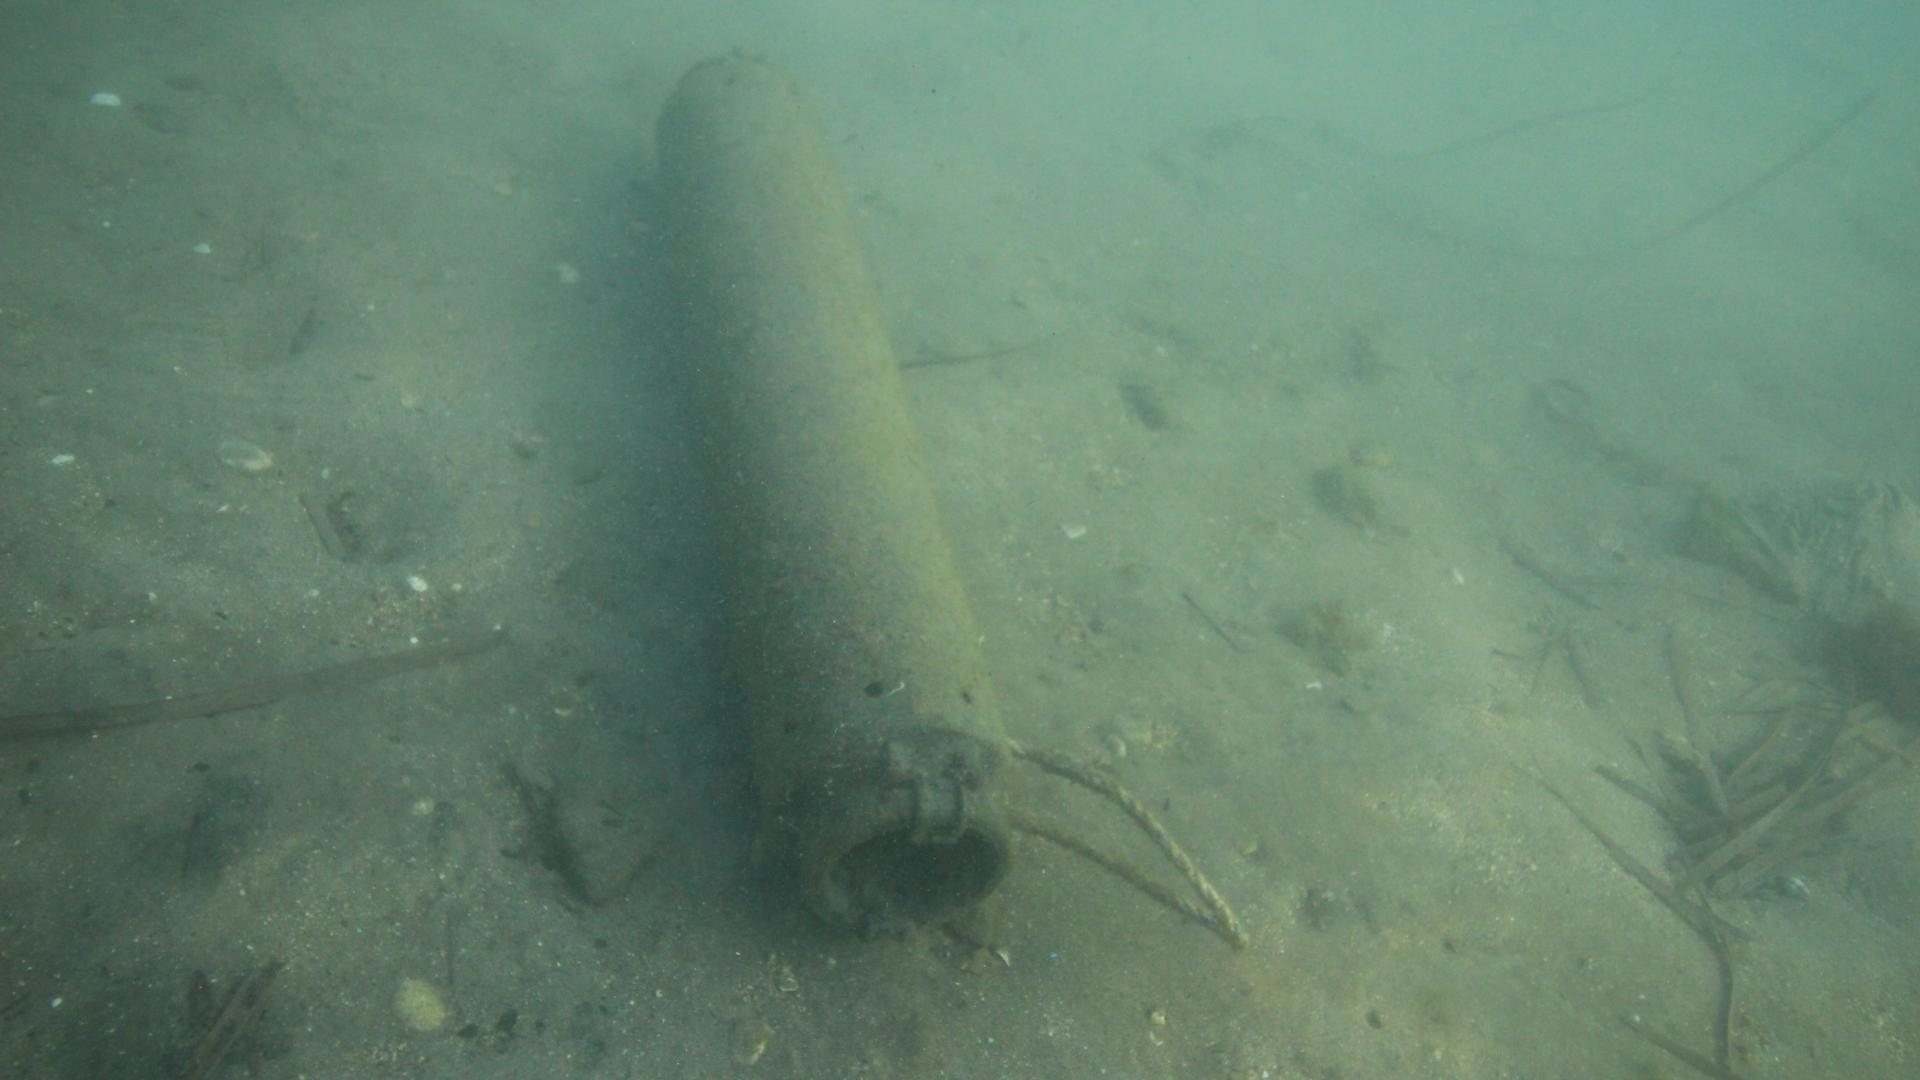eel fish trap: (651, 47, 1014, 945)
rope: (1005, 736, 1251, 955)
